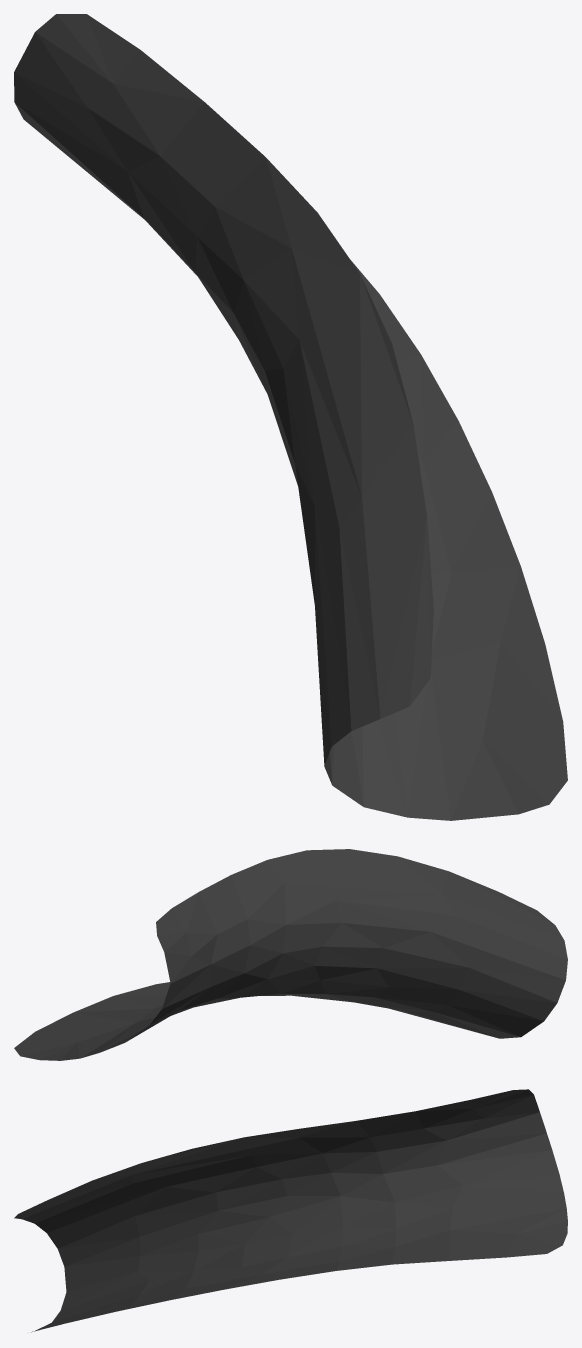
The model's file is Scapula_notch.glb.
3 renders of one model, top to bottom at view 1: azimuth 30°, elevation 25°; view 2: azimuth 150°, elevation 25°; view 3: azimuth 270°, elevation 25°, orthographic. The views are drawn at different scales.
Visible parts, largest first — view 1: Scapula_notch; view 2: Scapula_notch; view 3: Scapula_notch.
Part boxes in pixels (box(x1,y1,x2,y2)): Scapula_notch: box(14, 14, 567, 820); Scapula_notch: box(14, 849, 567, 1060); Scapula_notch: box(14, 1089, 567, 1332).
Size of the model in its own units: 0.1178 by 0.1373 by 0.2748.
Materials: 1 (1 with a texture image).
